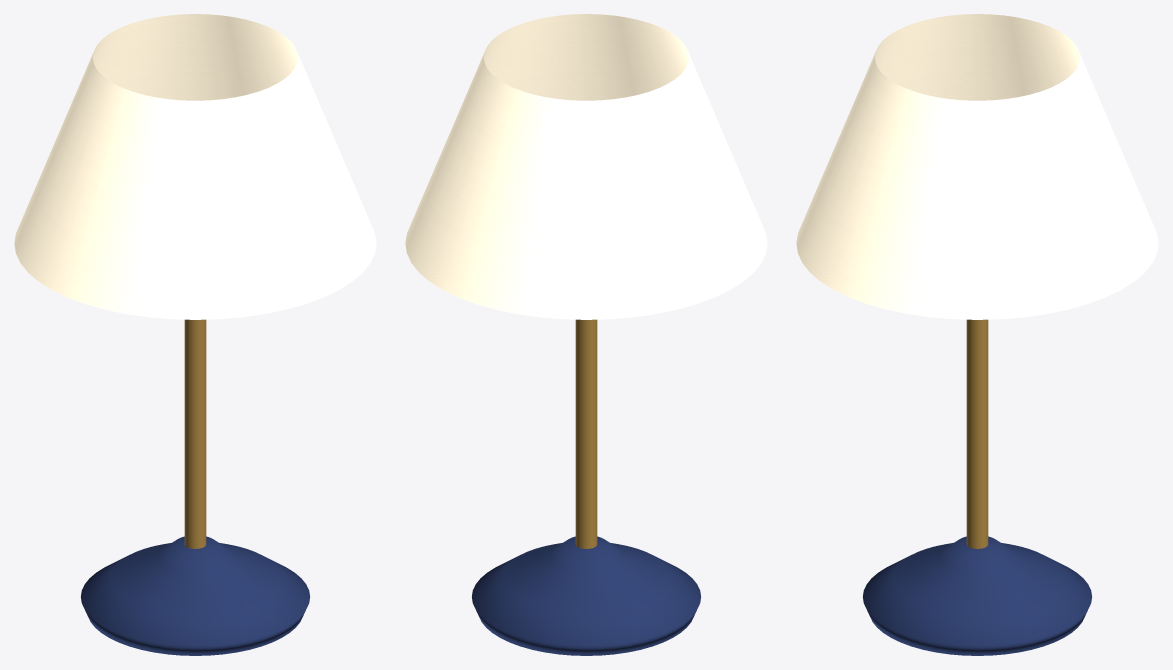
The model's file is table-lamp.glb.
3 views of the same model, side by side, from view 1: azimuth 30°, elevation 25°; view 2: azimuth 150°, elevation 25°; view 3: azimuth 270°, elevation 25° (orthographic).
Visible parts, largest first — view 1: shade, base, stem; view 2: shade, base, stem; view 3: shade, base, stem.
Part boxes in pixels (left/top/right/bottom): shade: left=14, top=14, right=376, bottom=319; base: left=81, top=536, right=309, bottom=655; stem: left=184, top=319, right=206, bottom=548; shade: left=405, top=14, right=767, bottom=319; base: left=472, top=536, right=700, bottom=655; stem: left=575, top=319, right=597, bottom=548; shade: left=796, top=14, right=1158, bottom=319; base: left=863, top=536, right=1091, bottom=655; stem: left=966, top=319, right=988, bottom=548.
Size of the model in its own units: 0.3 by 0.505 by 0.3.
Materials: 4 (1 with a texture image).
